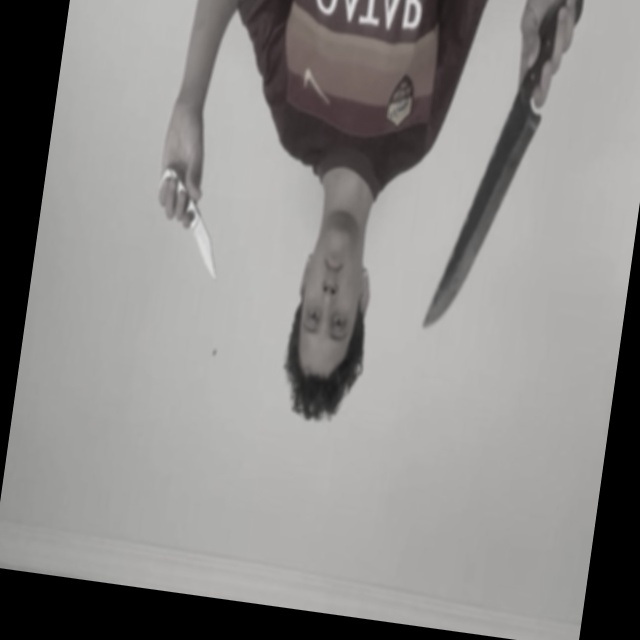Sharp-Object: (423, 104, 541, 341), (188, 215, 225, 281)
